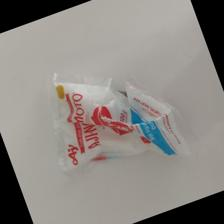Ajinomoto: (42, 69, 196, 181)
